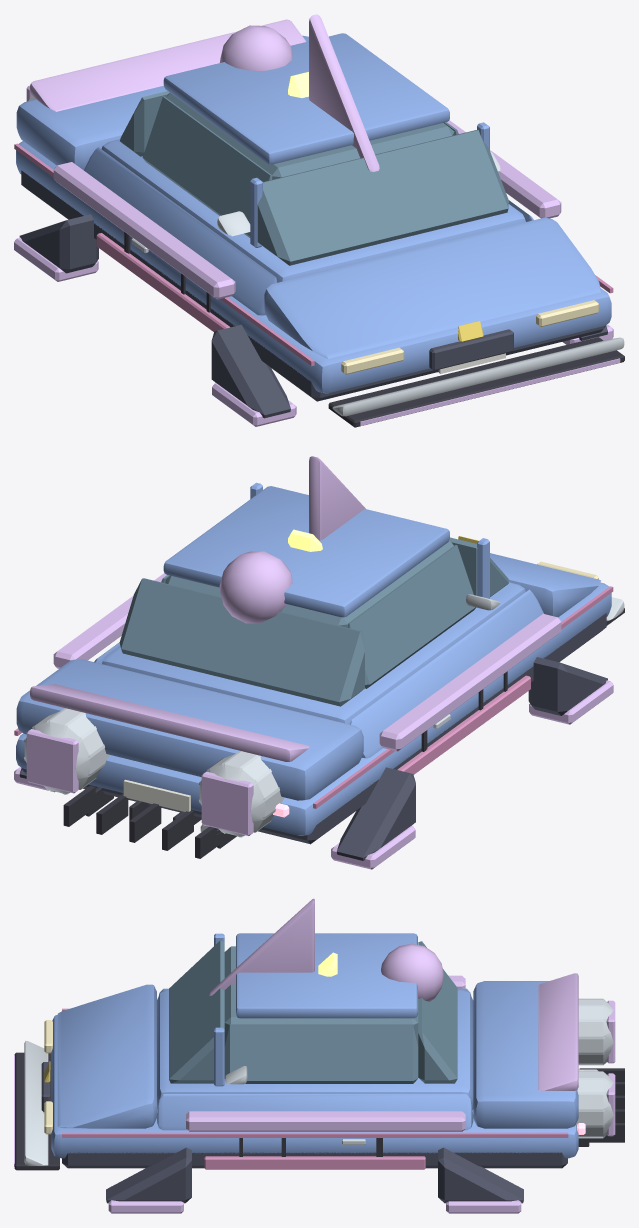
File: cyber_crescent.fbx
The picture shows the model from 3 angles, top to bottom: view 1: azimuth 30°, elevation 25°; view 2: azimuth 150°, elevation 25°; view 3: azimuth 270°, elevation 25°; orthographic projection. The views are drawn at different scales.
Visible parts, largest first — view 1: Body, Glass, Light, Trim2, Accent3, Trim, Accent, Accent2, Light2; view 2: Body, Glass, Light, Trim2, Accent3, Accent, Trim, Accent2, Accent4, Light4; view 3: Body, Glass, Light, Trim2, Accent3, Accent, Accent2, Trim, Light2.
Part boxes in pixels (x1,y1,x2,y2): Body: [16, 33, 611, 393]; Glass: [120, 91, 508, 265]; Light: [14, 25, 620, 426]; Trim2: [19, 170, 607, 418]; Accent3: [30, 14, 379, 171]; Trim: [124, 232, 624, 427]; Accent: [28, 95, 624, 416]; Accent2: [14, 143, 613, 366]; Light2: [341, 300, 598, 374]; Body: [16, 482, 611, 835]; Glass: [119, 491, 508, 706]; Light: [14, 551, 613, 869]; Trim2: [19, 613, 607, 860]; Accent3: [30, 456, 365, 761]; Accent: [24, 594, 624, 837]; Trim: [63, 608, 624, 858]; Accent2: [14, 586, 613, 808]; Accent4: [123, 779, 190, 811]; Light4: [288, 529, 322, 551]; Body: [51, 933, 578, 1158]; Glass: [169, 940, 457, 1083]; Light: [14, 943, 615, 1213]; Trim2: [41, 1062, 567, 1203]; Accent3: [209, 898, 578, 1090]; Accent: [24, 998, 613, 1165]; Accent2: [62, 1008, 568, 1169]; Trim: [14, 1052, 624, 1170]; Light2: [44, 1020, 52, 1134].
Size of the model in its own units: 3.3 by 2.46 by 5.68.
